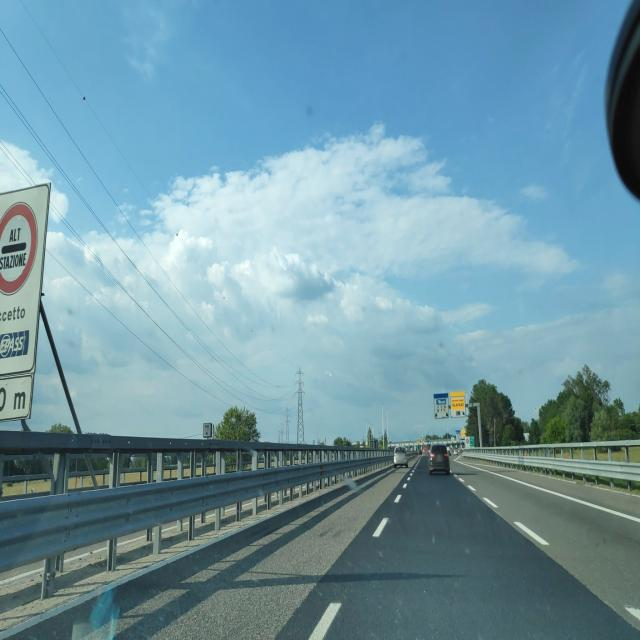car: (428, 442, 451, 476), (393, 444, 409, 469)
